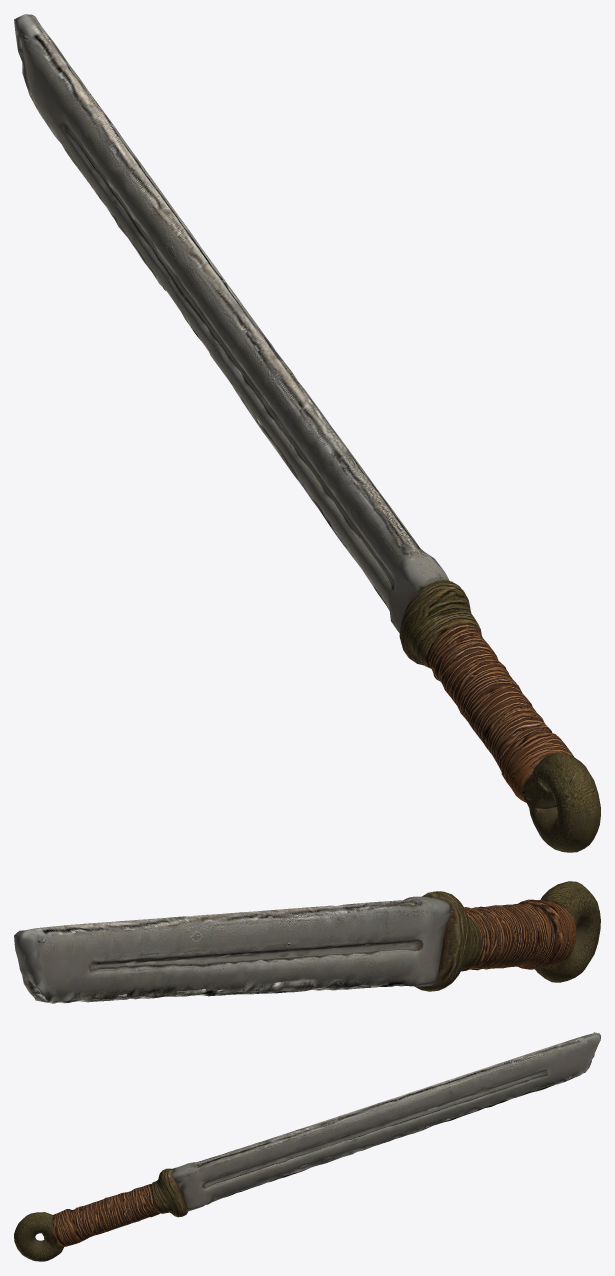
Rendered from guofengjzwuq1.fbx.
3 views of the same model, one above another, from view 1: azimuth 30°, elevation 25°; view 2: azimuth 150°, elevation 25°; view 3: azimuth 270°, elevation 25° (orthographic). The views are drawn at different scales.
Parts seen in each view (by area): view 1: node_58ddcf3d; view 2: node_58ddcf3d; view 3: node_58ddcf3d.
Part boxes in pixels (left/top/right/bottom): node_58ddcf3d: left=14, top=14, right=600, bottom=852; node_58ddcf3d: left=14, top=881, right=600, bottom=1003; node_58ddcf3d: left=14, top=1032, right=600, bottom=1261.
Bounding box in the file's own units: 0.0908 × 0.6058 × 1.41.
